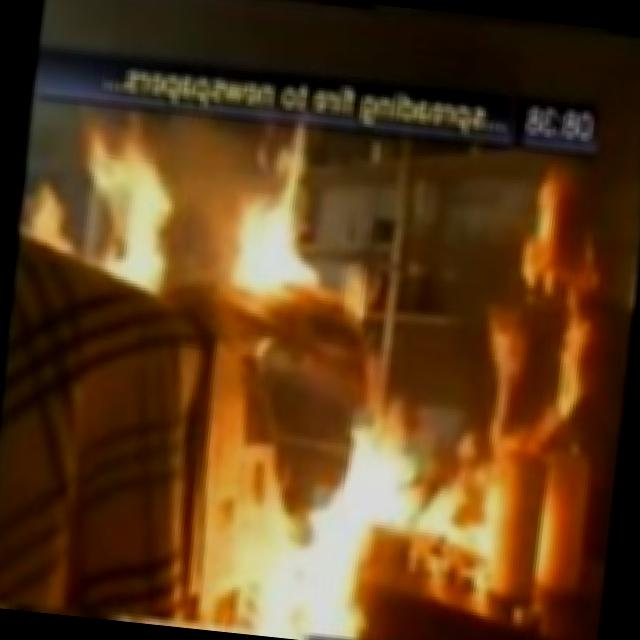fire: (11, 109, 634, 640)
